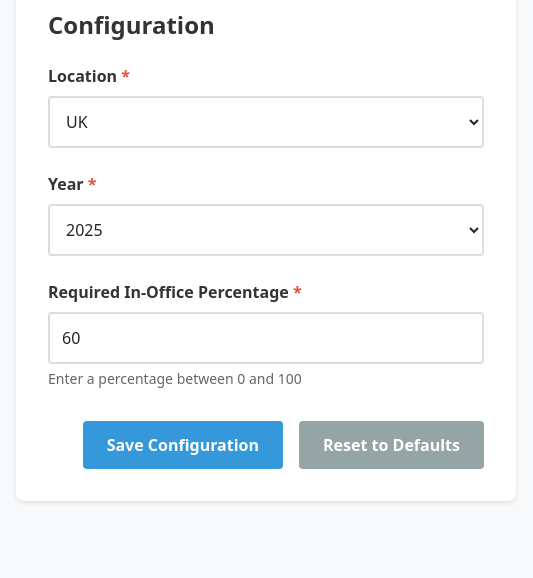
Test: ConfigurationForm › Configuration Saving › prevents submission with invalid data
Set invalid data
Select "Select a location" in the dropdown labelled "Location *" at {"x": 266, "y": 122}, box [48, 96, 484, 148]
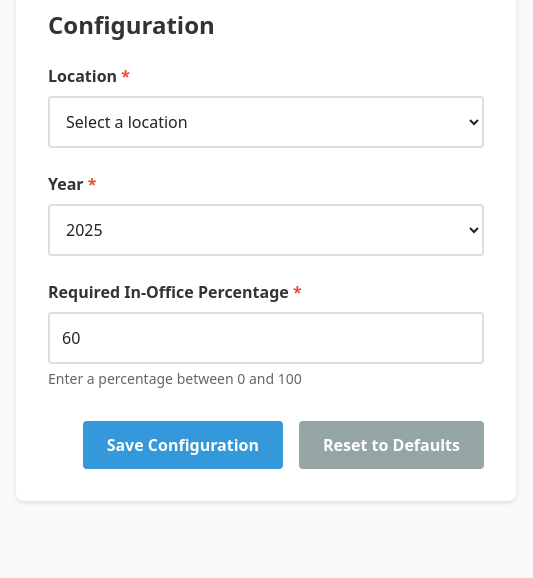
Replace the text in the number field labelled "Required In-Office Percentage *" with "150" at {"x": 266, "y": 338}, box [48, 312, 484, 364]
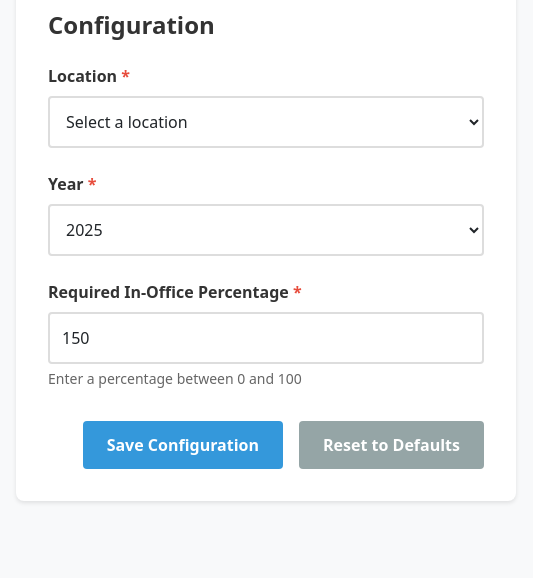
Submit form
Click the button "Save Configuration".
click(183, 445)  # box [83, 421, 283, 469]
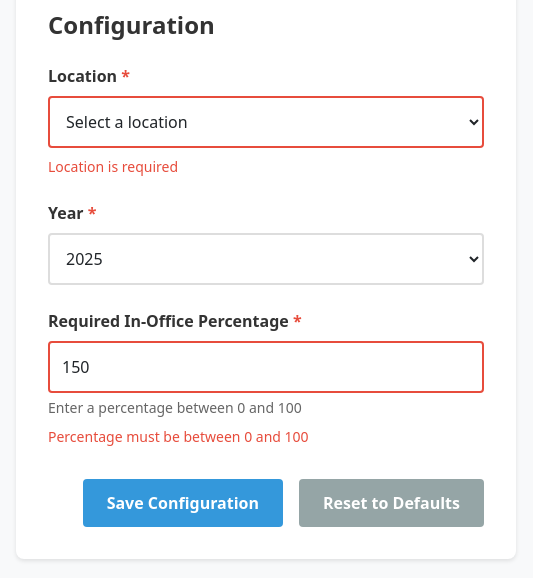
Check: the text "Location is required" is shown, box [48, 157, 178, 176]
Check: the text "Percentage must be between 0 and 100" is shown, box [48, 427, 309, 446]
